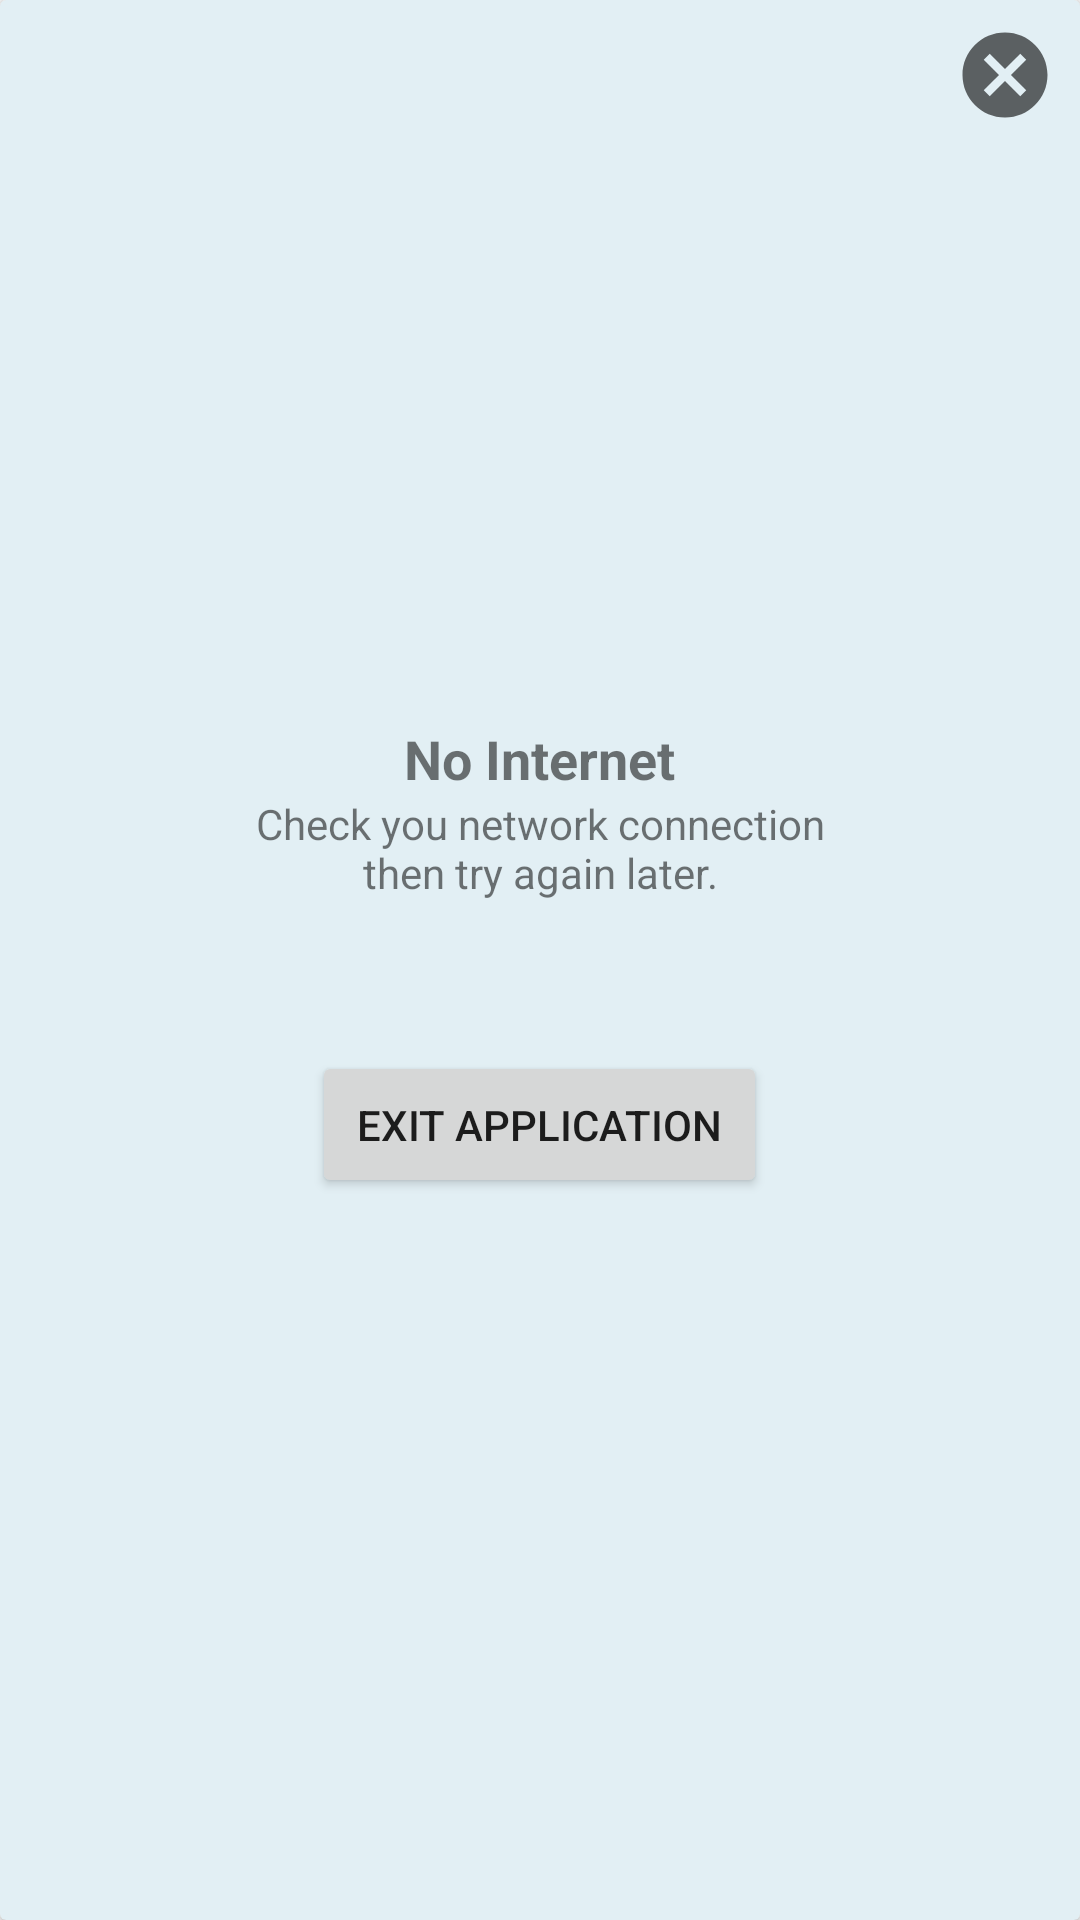

Icon click points for this 1080 × 1920 phone screenshot, format (x,y):
cancel: (1005,75)
